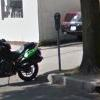Motorcycle: (1, 34, 50, 86)
